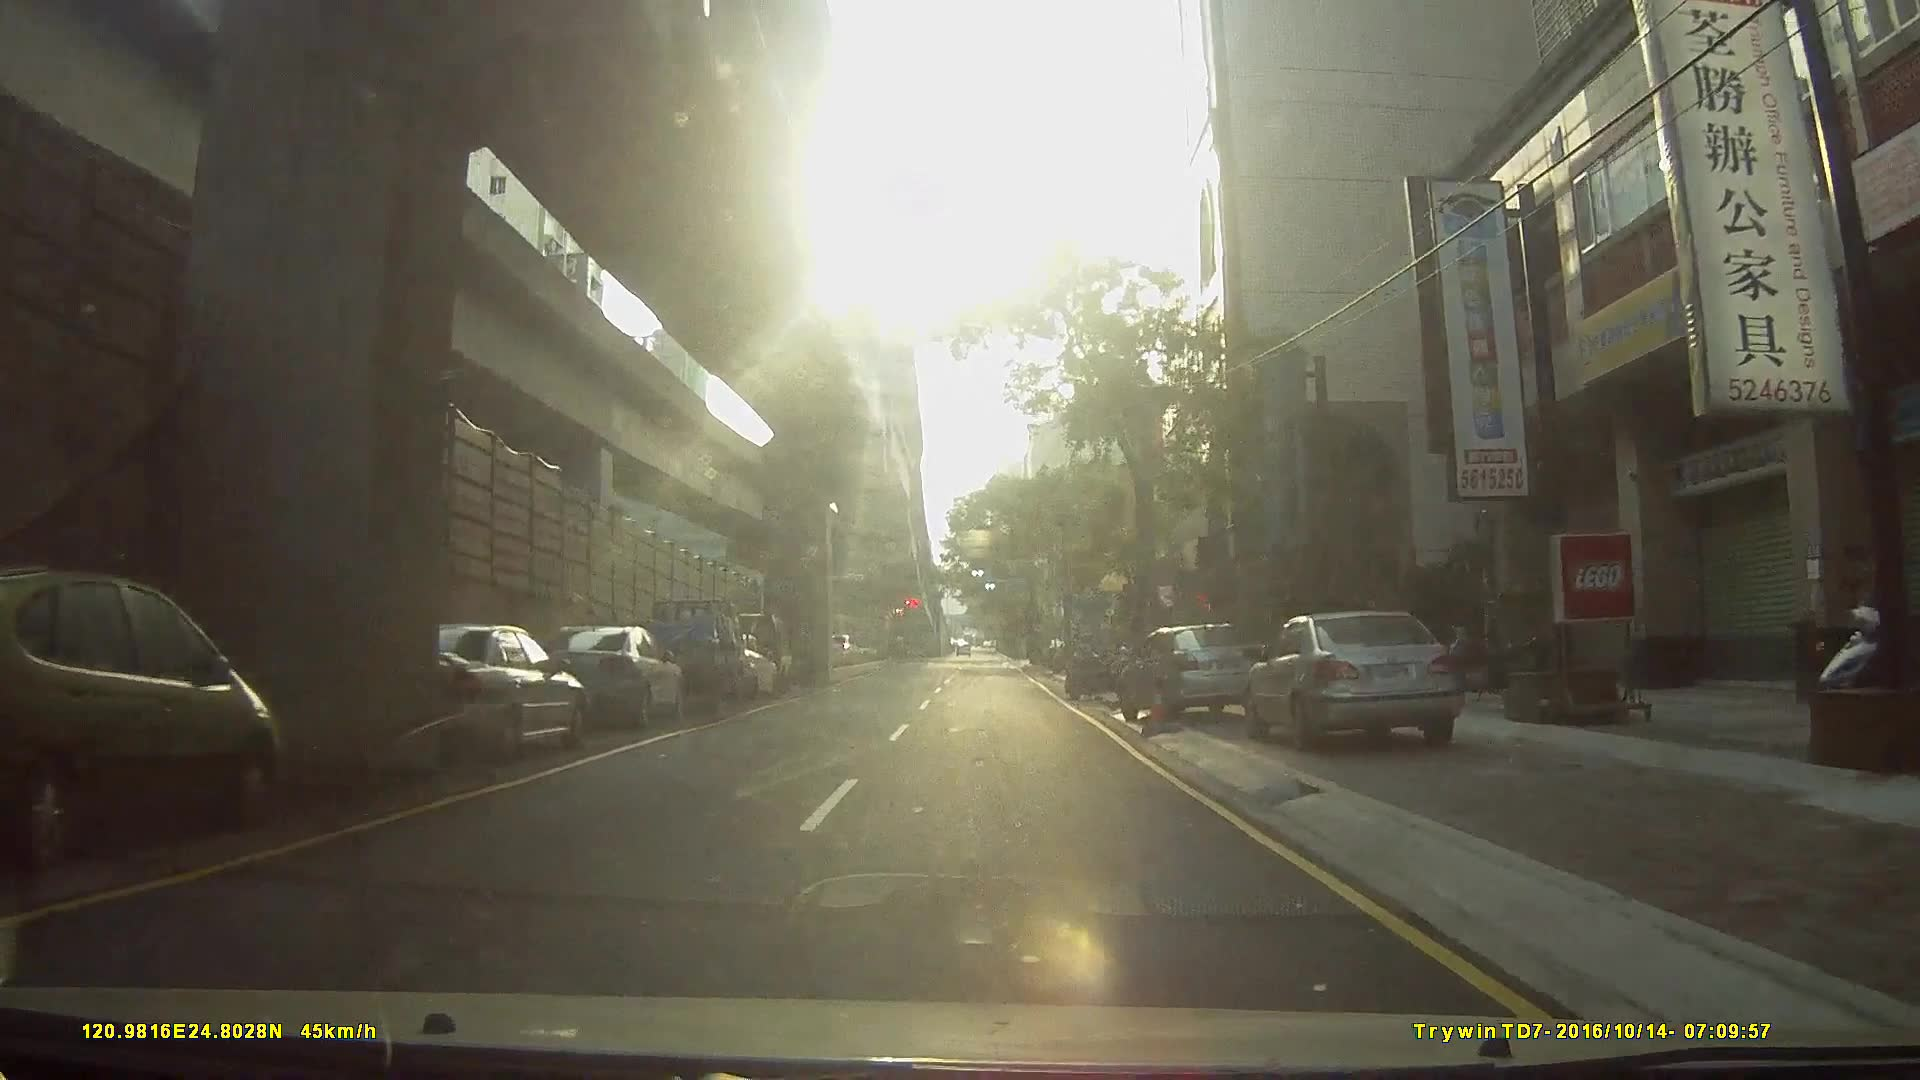rider: (1065, 628, 1125, 698)
vehicle: (1, 578, 286, 857), (1248, 604, 1473, 749), (376, 619, 582, 767), (522, 621, 683, 729), (1118, 619, 1276, 727), (622, 594, 746, 715)
